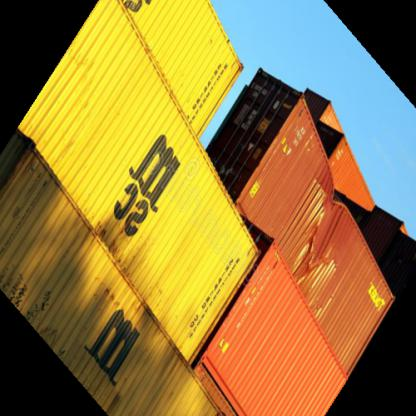Damage: (300, 205, 350, 266)
